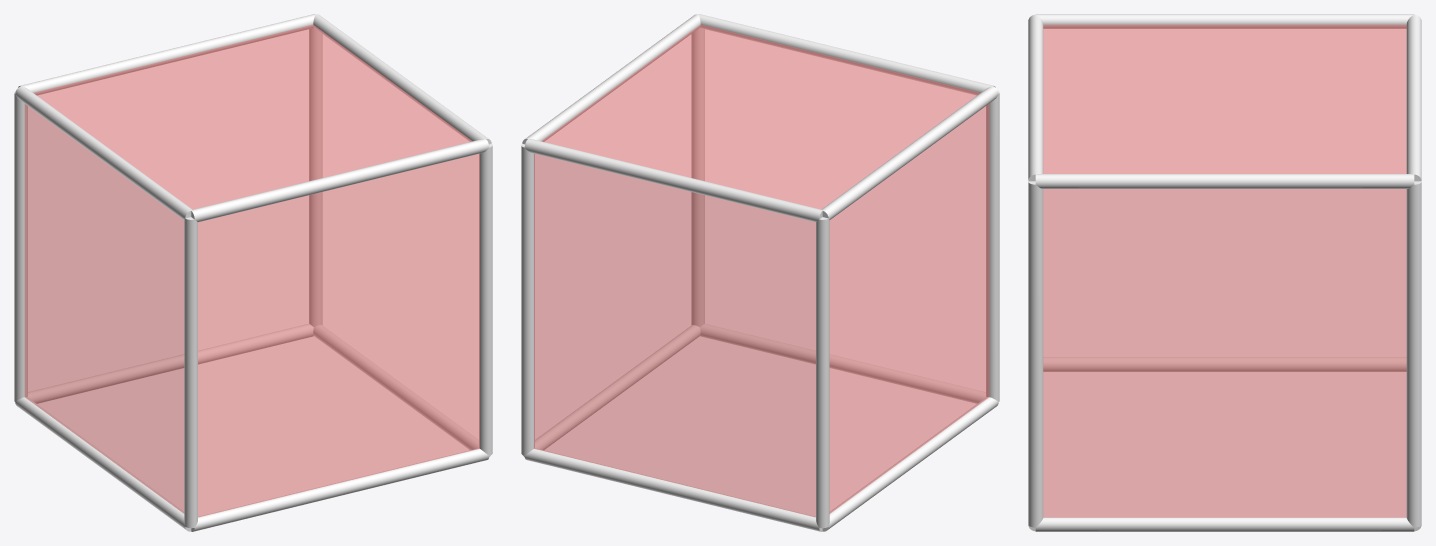
The model's file is cubeTest.glb.
3 renders of one model, left to right at view 1: azimuth 30°, elevation 25°; view 2: azimuth 150°, elevation 25°; view 3: azimuth 270°, elevation 25°, orthographic. The views are drawn at different scales.
Parts seen in each view (by area): view 1: Box, Cylinder (×12); view 2: Box, Cylinder (×12); view 3: Box, Cylinder (×8).
Boxes of the visible parts, x1,y1,x2,y2 form: Box: (24,25,479,517); Cylinder (×12): (14,14,492,531); Box: (534,25,989,517); Cylinder (×12): (521,14,999,531); Box: (1043,24,1406,517); Cylinder (×8): (1028,14,1421,531).
Bounding box in the file's own units: 1.04 × 1.04 × 1.04.
